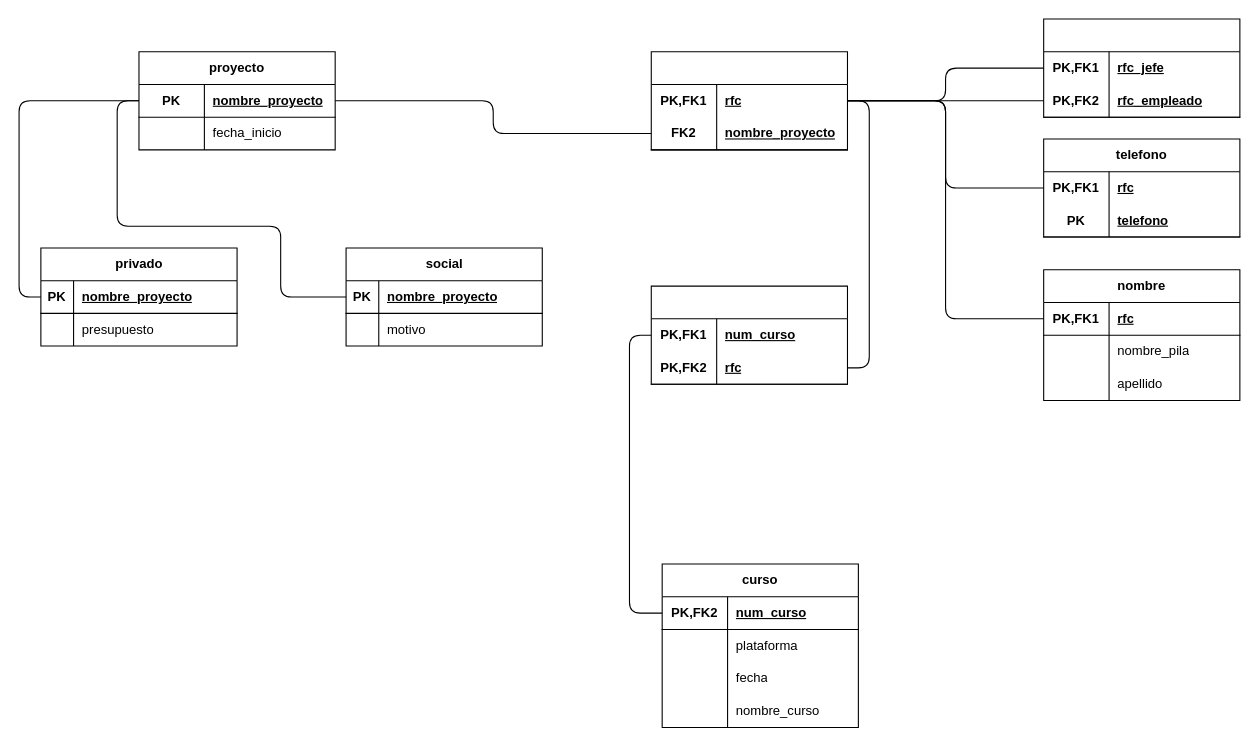
This 1259x747 diagram has some shape labels left out. Each missing label, with the box of its shape:
crea: (650, 285, 847, 384)
desarrollador: (650, 51, 847, 150)
supervisa: (1043, 18, 1240, 117)
